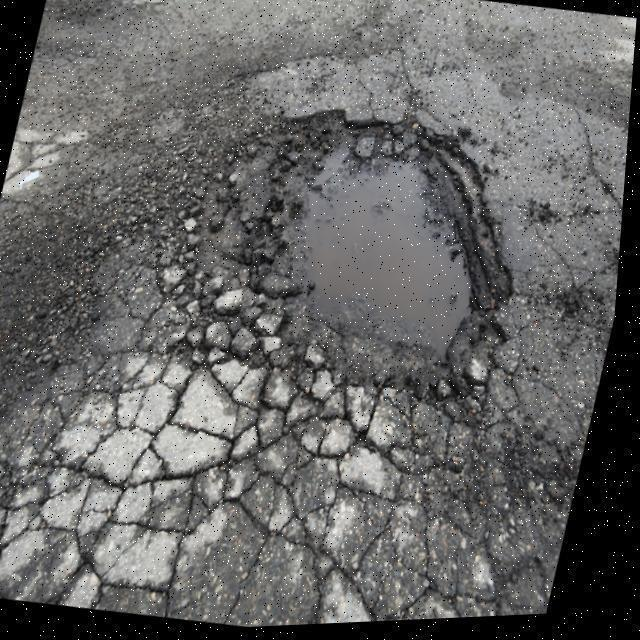Pothole: (241, 103, 516, 427)
